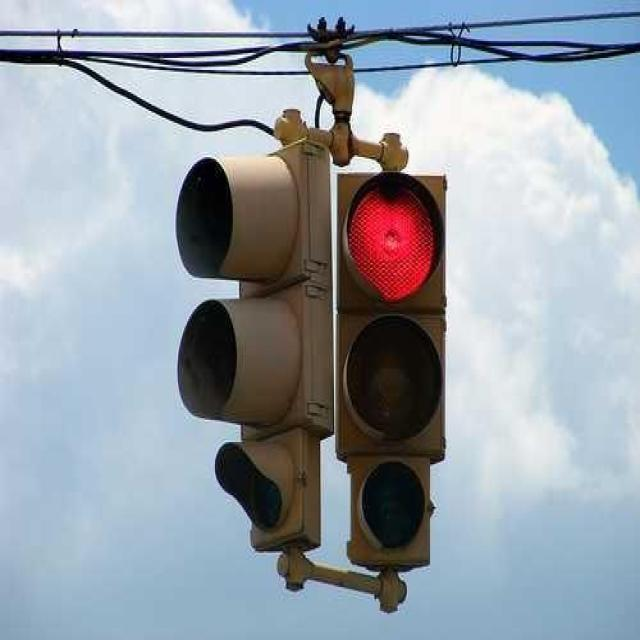Traffic Light -Red-: (323, 162, 458, 575)
